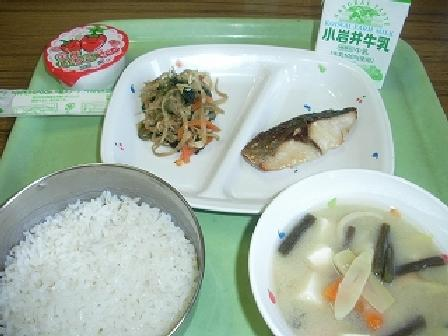Fish: (240, 95, 375, 180)
Milk: (307, 0, 420, 85)
Rice: (0, 165, 213, 335)
Soups: (257, 176, 443, 335)
salad with sauce: (127, 64, 223, 165)
